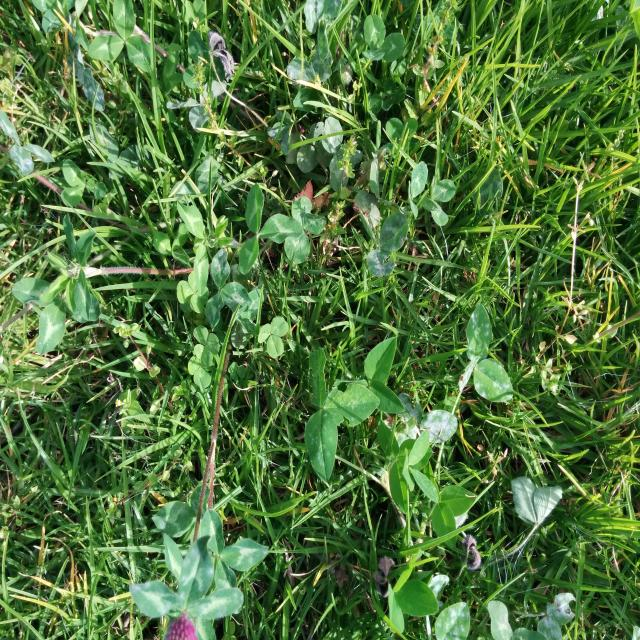Four Leaf Clover: (178, 272, 210, 313), (193, 325, 220, 368)
